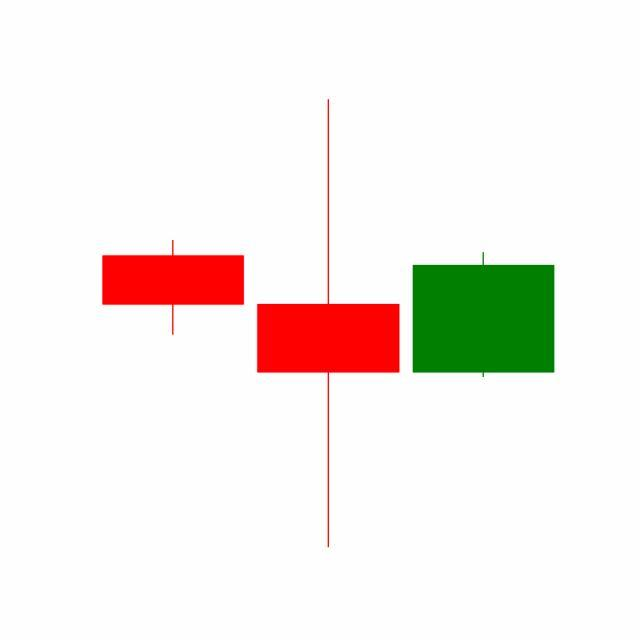Marubozu: (406, 251, 562, 379)
